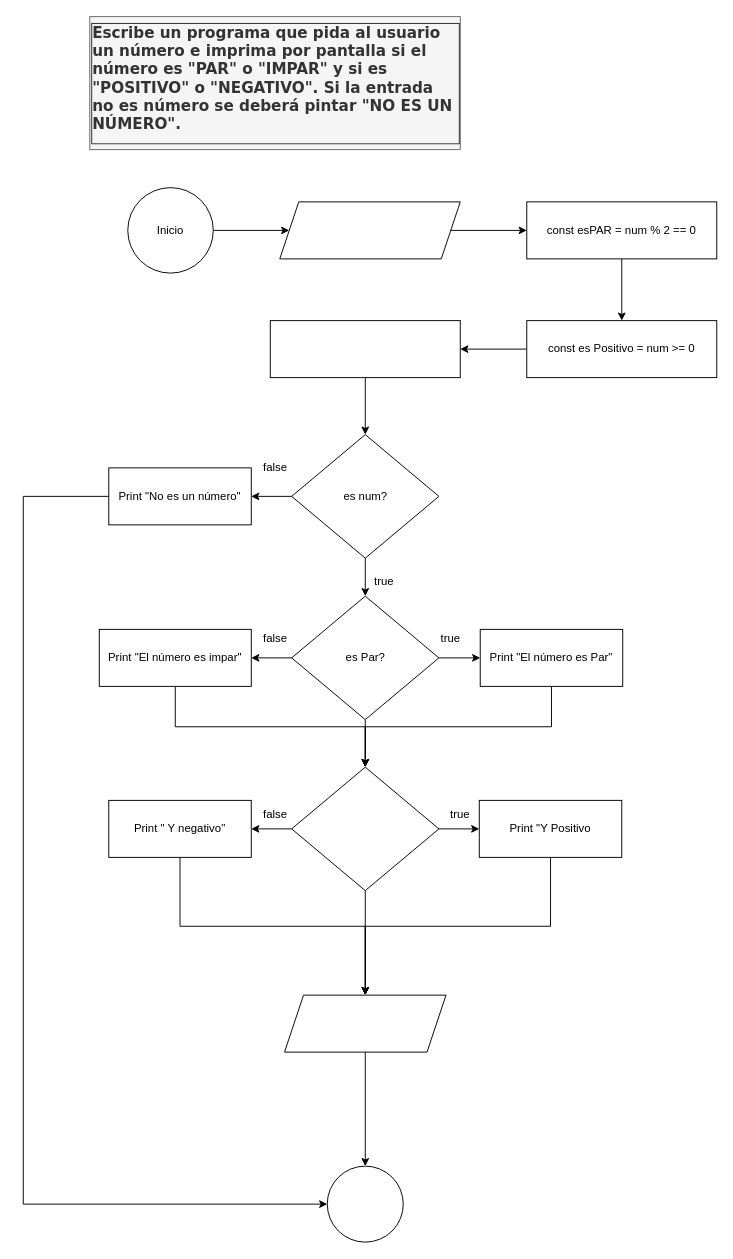
This 733x1259 diagram has some shape labels left out. The shapes that lost their labels are listed below. From the top down, each one's centre as x and y in pixels, then its label:
the point at 369,230: LEER num
the point at 364,349: Let resultado
the point at 365,828: es Positivo?
the point at 365,1023: Print "resultado"
the point at 364,1203: Fin
